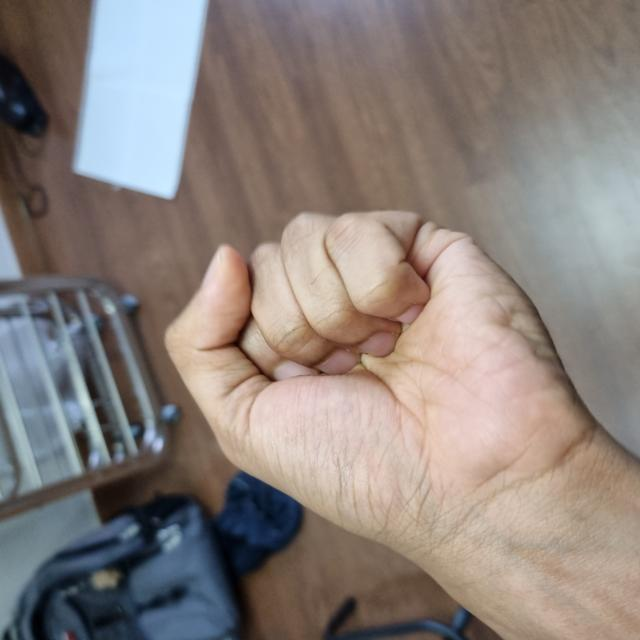Rock: (89, 167, 416, 573)
